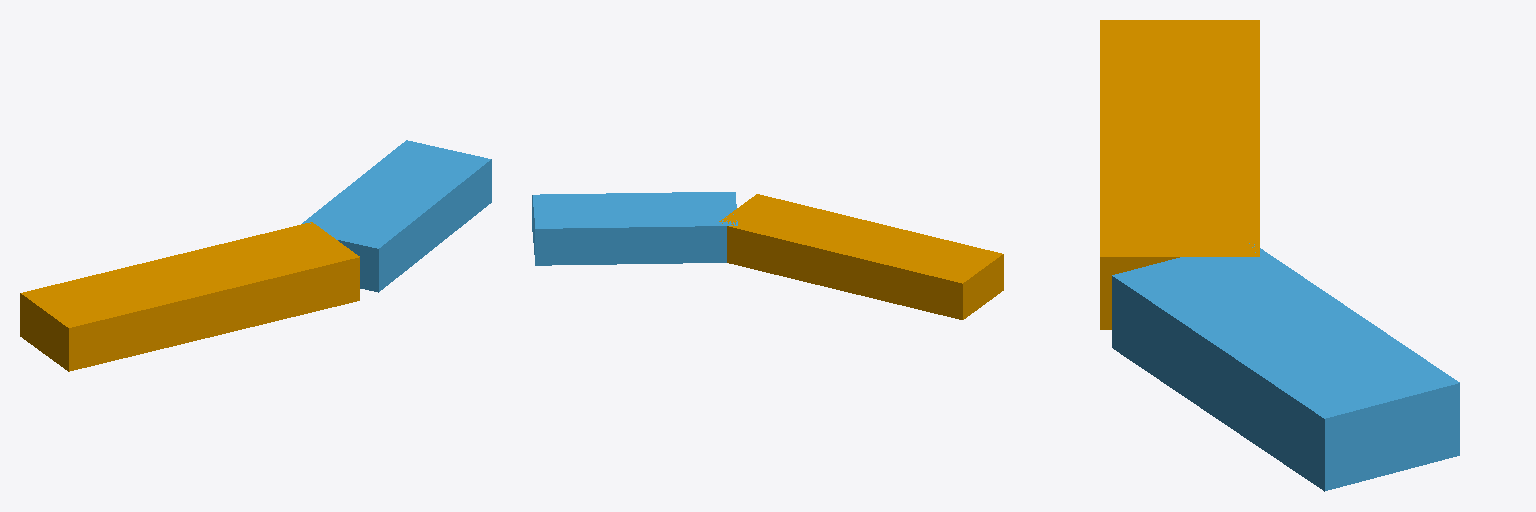
robot.urdf — test_data_v2:
<?xml version="1.0" encoding="utf-8"?>
<robot name="test_data_v2">
	<link name="link0:1">
		<inertial>
			<mass value="0.1099"/>
			<origin rpy="-0.0 -0.0 -0.0" xyz="0.035 0.01 0.005"/>
			<inertia ixx="4.579166666666662e-06" ixy="0.0" ixz="0.0" iyy="4.579166666666663e-05" iyz="0.0" izz="4.8539166666666644e-05"/>
		</inertial>
		<collision name="link0:1_collision">
			<origin rpy="0.0 -0.0 0.0" xyz="0.0 0.0 0.0"/>
			<geometry>
				<mesh filename="./meshes/link0.stl" scale="1.0 1.0 1.0"/>
			</geometry>
		</collision>
		<visual name="link0:1_visual">
			<origin rpy="0.0 -0.0 0.0" xyz="0.0 0.0 0.0"/>
			<geometry>
				<mesh filename="./meshes/link0.stl" scale="1.0 1.0 1.0"/>
			</geometry>
		</visual>
	</link>
	<link name="link1:1">
		<inertial>
			<mass value="0.07849999999999999"/>
			<origin rpy="-0.0 -0.0 -0.5594623856233415" xyz="0.10499999999999998 0.010000000000000009 0.005"/>
			<inertia ixx="7.140343590082105e-06" ixy="-6.179343616032585e-06" ixz="-1.1102230246251566e-20" iyy="1.3138823076584228e-05" iyz="-4.163336342344337e-21" izz="1.8970833333349547e-05"/>
		</inertial>
		<collision name="link1:1_collision">
			<origin rpy="0.0 -0.0 0.5594623856233415" xyz="-0.062495938705145096 -0.05093385559097825 -0.01"/>
			<geometry>
				<mesh filename="./meshes/link1.stl" scale="1.0 1.0 1.0"/>
			</geometry>
		</collision>
		<visual name="link1:1_visual">
			<origin rpy="0.0 -0.0 0.5594623856233415" xyz="-0.062495938705145096 -0.05093385559097825 -0.01"/>
			<geometry>
				<mesh filename="./meshes/link1.stl" scale="1.0 1.0 1.0"/>
			</geometry>
		</visual>
	</link>
	<joint name="rev0" type="continuous">
		<parent link="link0:1"/>
		<child link="link1:1"/>
		<origin rpy="0 0 0" xyz="0.06999999999999999 0.010000000000000018 0.01"/>
		<axis xyz="0.0 0.0 1.0"/>
	</joint>
</robot>

--- What the picture shows (computed from the rendered views, not written in the file) ---
3 views of the same robot in one strip: view 1: azimuth 30°, elevation 25°; view 2: azimuth 150°, elevation 25°; view 3: azimuth 270°, elevation 25° (orthographic).
Robot: test_data_v2 — 2 links, 1 joints (1 continuous); root link link0:1; default pose: all joints at 0.
Visible links, largest first — view 1: link0:1, link1:1; view 2: link0:1, link1:1; view 3: link1:1, link0:1.
Link boxes in pixels (x1,y1,x2,y2): link0:1: (20, 222, 359, 371); link1:1: (302, 140, 491, 292); link0:1: (719, 194, 1003, 319); link1:1: (532, 192, 737, 265); link1:1: (1112, 243, 1459, 491); link0:1: (1100, 20, 1259, 329).
Size in the robot's own frame: 0.1177 by 0.045 by 0.01 metres.
2 mesh visuals loaded from 2 distinct referenced files (2 binary STL).